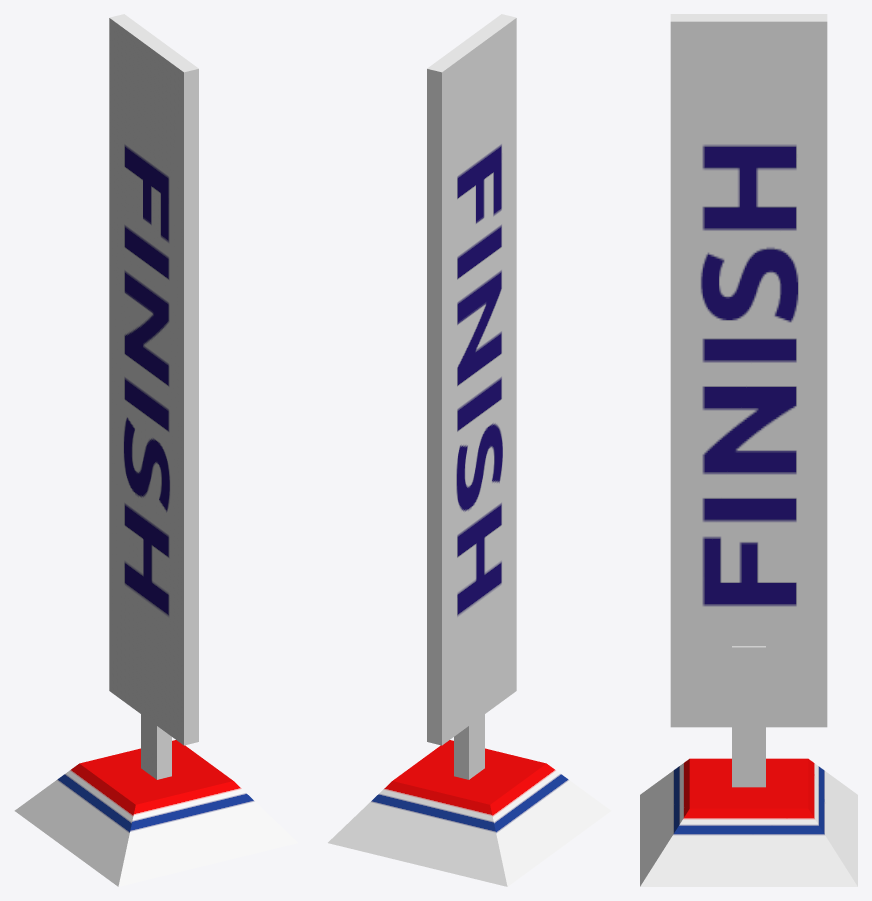
The model's file is Finish.FBX.
The picture shows the model from 3 angles, left to right: view 1: azimuth 30°, elevation 25°; view 2: azimuth 150°, elevation 25°; view 3: azimuth 270°, elevation 25°; orthographic projection. The views are drawn at different scales.
Visible parts, largest first — view 1: Finish; view 2: Finish; view 3: Finish.
Boxes of the visible parts, left/top/right/bottom form: Finish: left=14, top=14, right=297, bottom=886; Finish: left=328, top=14, right=611, bottom=886; Finish: left=640, top=14, right=857, bottom=886.
Size of the model in its own units: 5.12 by 21.31 by 5.12.
